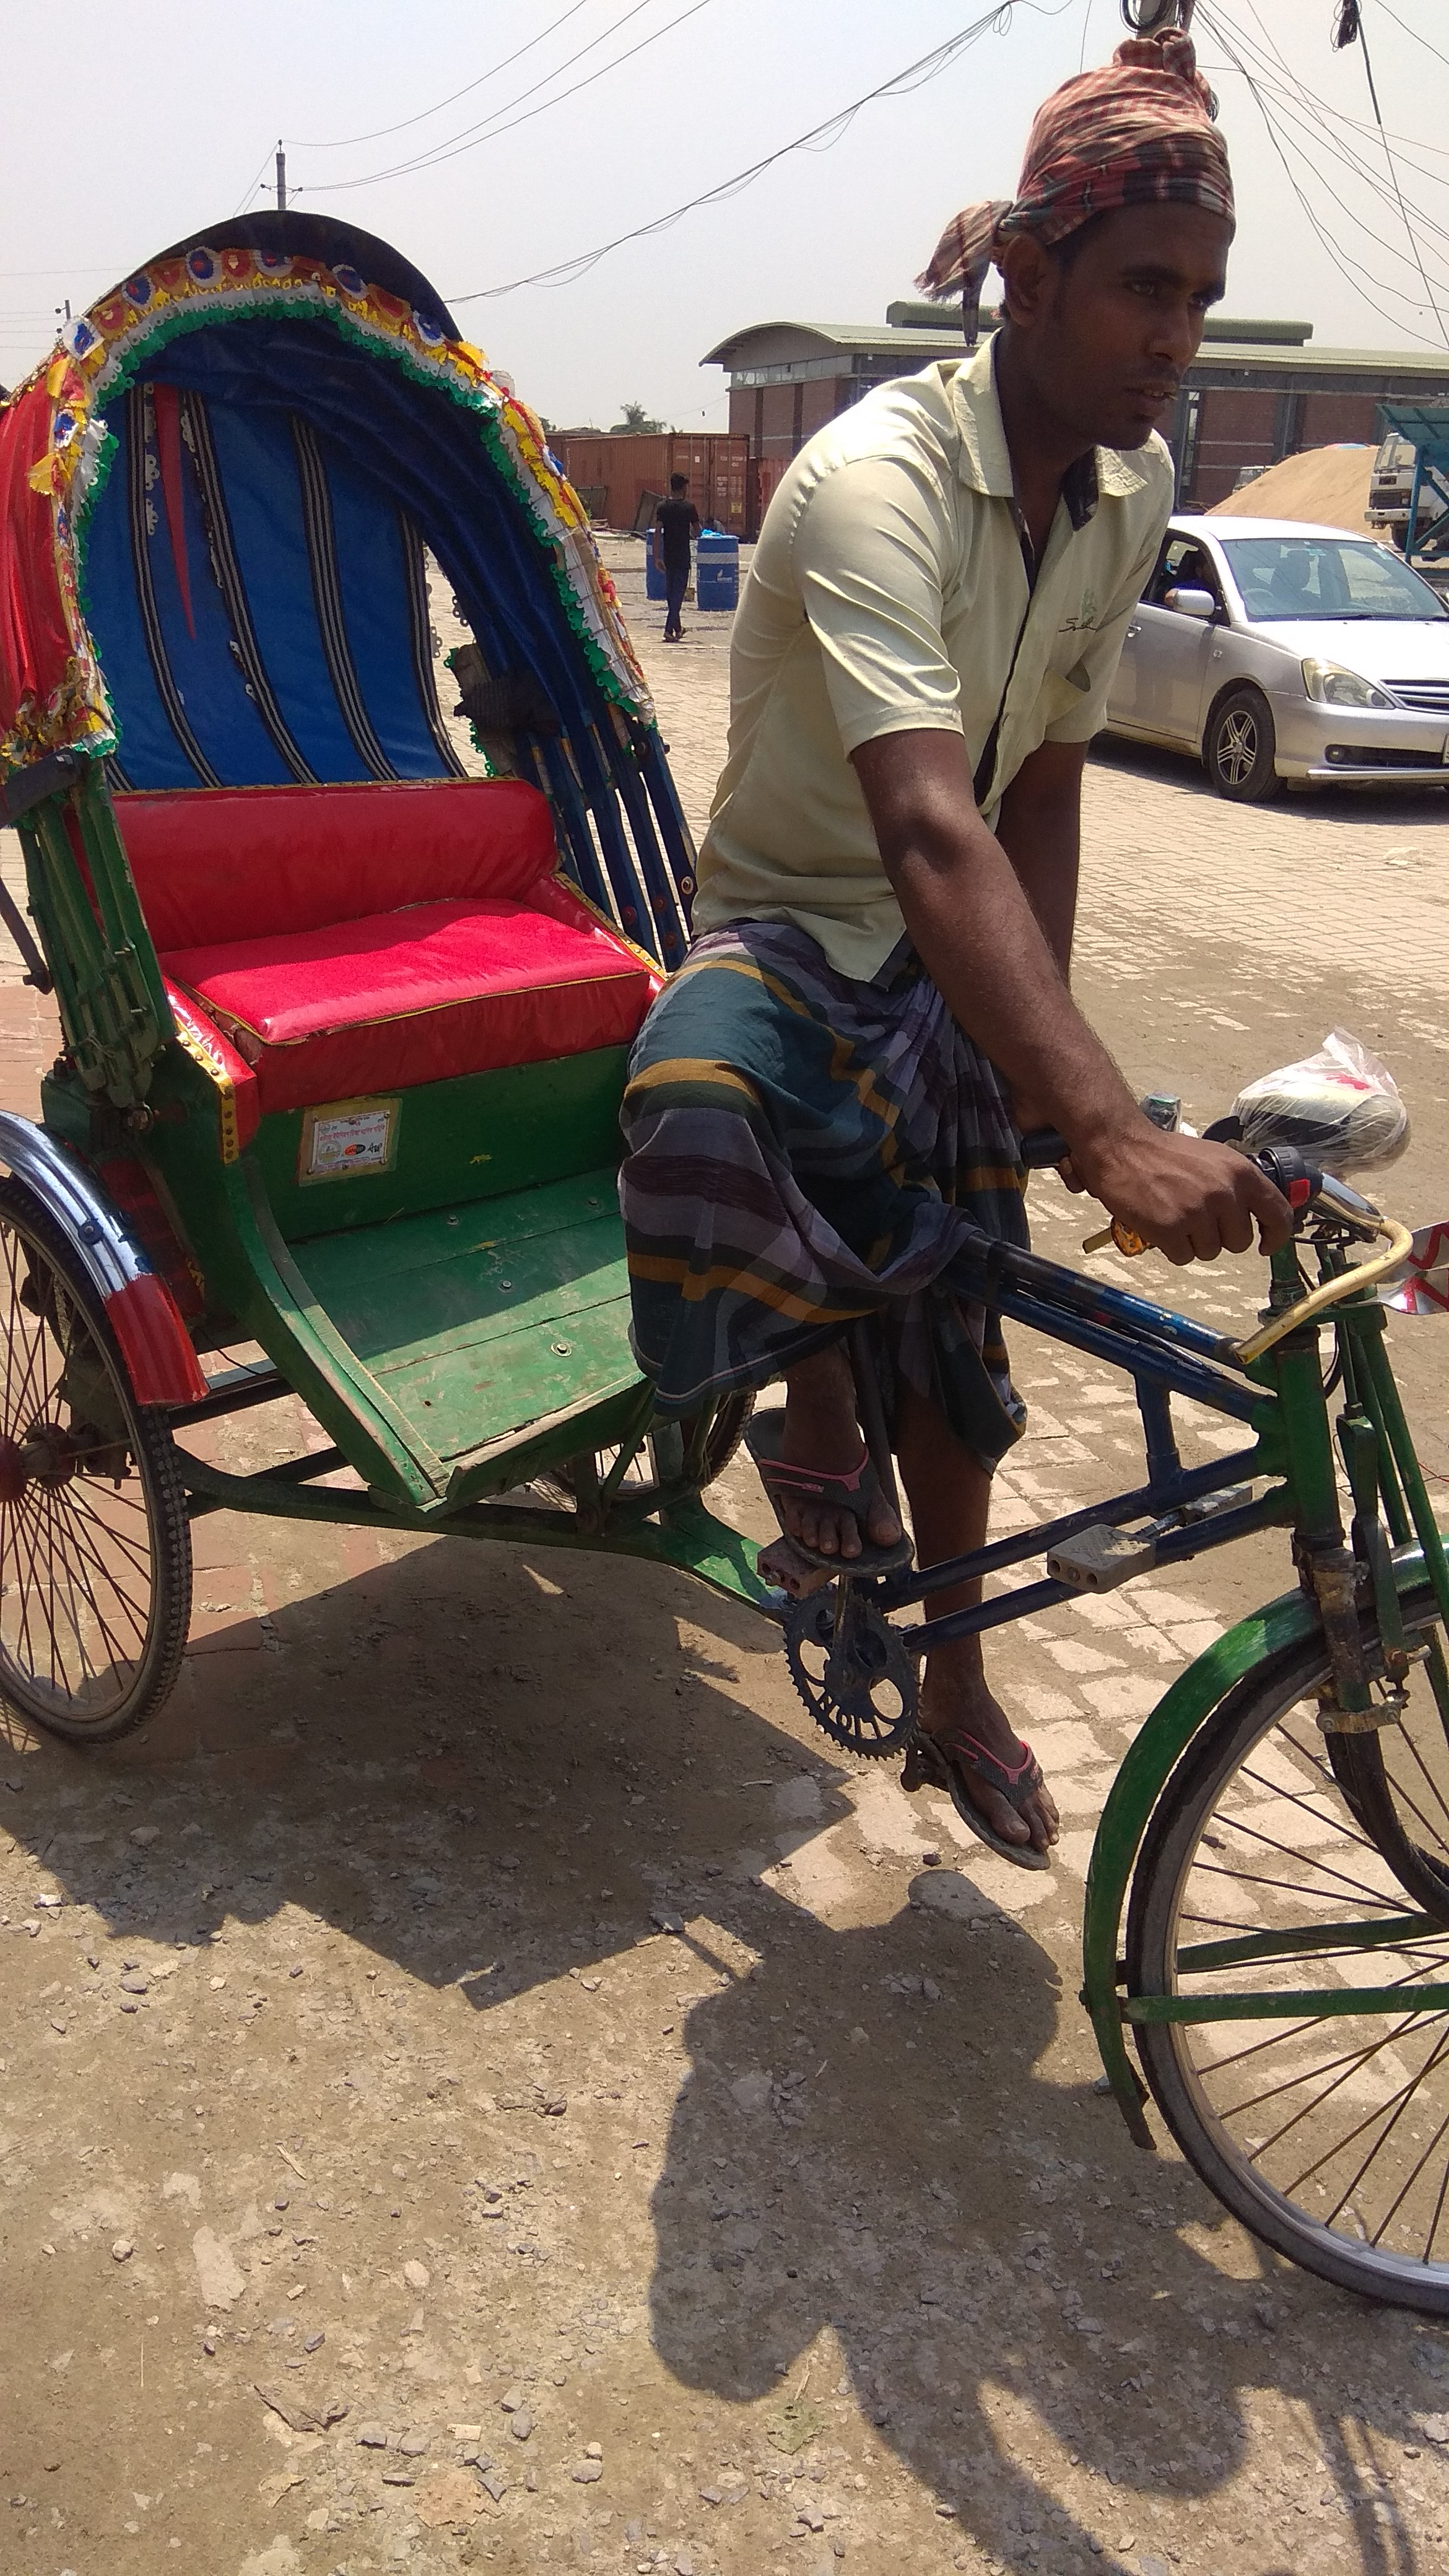Rickshaw: (12, 18, 1440, 2348)
